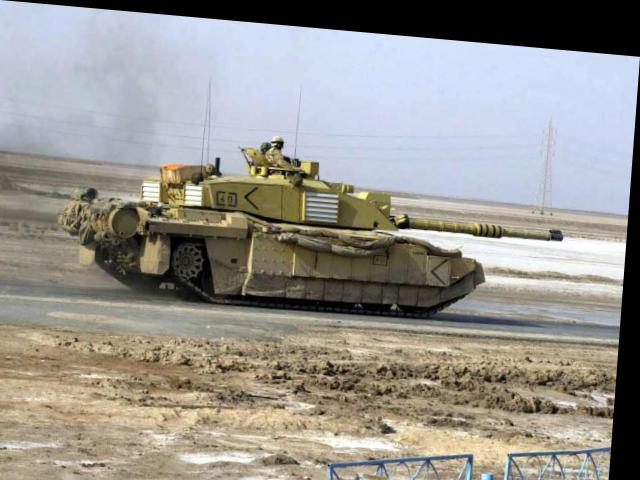other: (265, 125, 294, 167)
tank: (52, 127, 506, 327)
